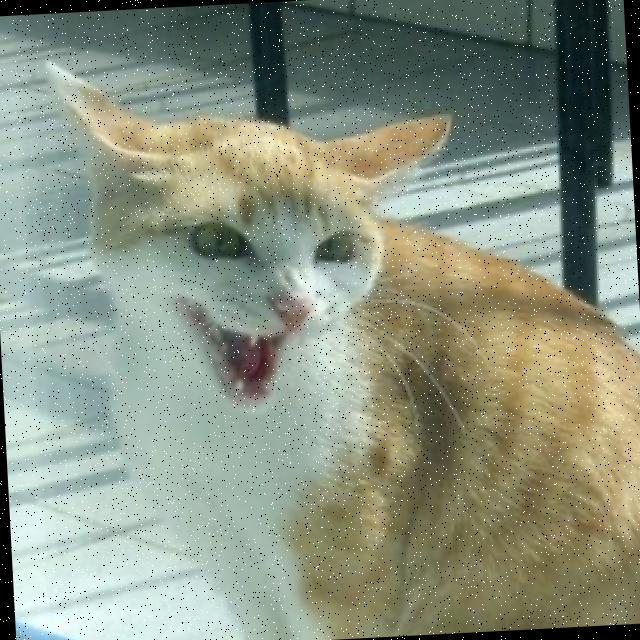Angry: (109, 158, 390, 412)
